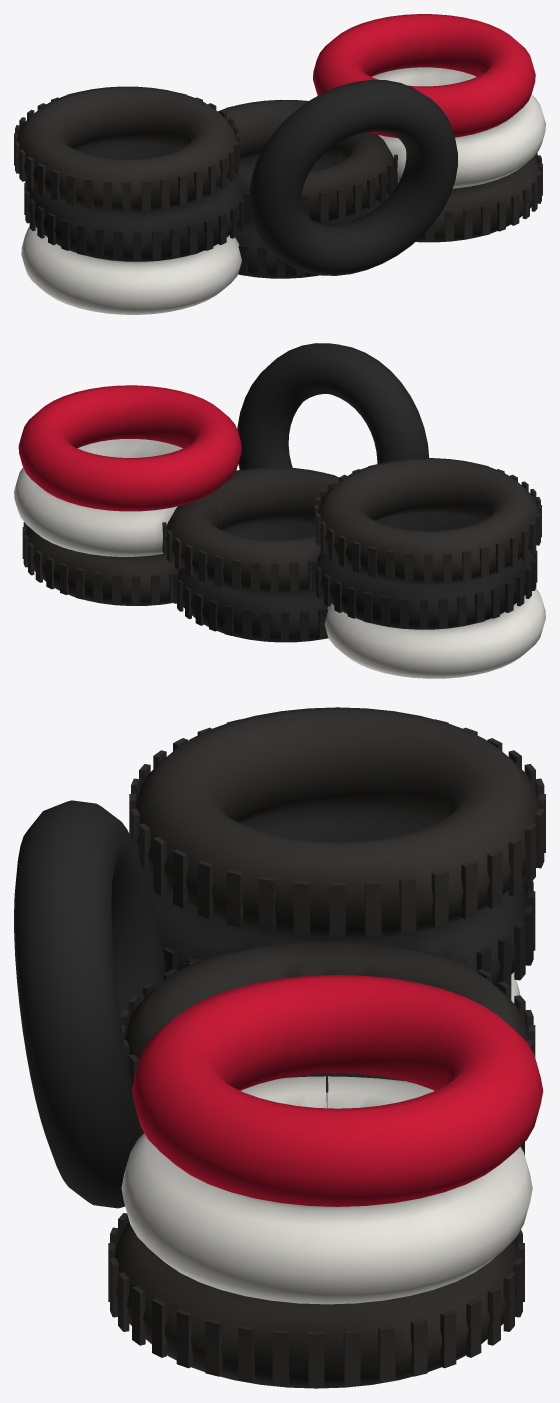
Rendered from ob-tires.glb.
The picture shows the model from 3 angles, top to bottom: view 1: azimuth 30°, elevation 25°; view 2: azimuth 150°, elevation 25°; view 3: azimuth 270°, elevation 25°; orthographic projection. The views are drawn at different scales.
Parts seen in each view (by area): view 1: t_gomme, t_gomme2, t_peinture, pneu22; view 2: t_gomme2, t_gomme, pneu22, t_peinture; view 3: t_gomme2, pneu22, t_gomme, t_peinture.
Part boxes in pixels (box(x1,y1,x2,y2)): t_gomme: box(24, 79, 457, 278); t_gomme2: box(14, 86, 542, 242); t_peinture: box(21, 67, 545, 314); pneu22: box(313, 14, 535, 138); t_gomme2: box(22, 458, 541, 605); t_gomme: box(172, 343, 537, 642); pneu22: box(18, 385, 241, 511); t_peinture: box(14, 439, 545, 678); t_gomme2: box(108, 707, 545, 1388); pneu22: box(132, 975, 543, 1206); t_gomme: box(14, 800, 535, 1208); t_peinture: box(121, 972, 532, 1304).
Bounding box in the file's own units: 2.02 × 0.7827 × 1.01.
